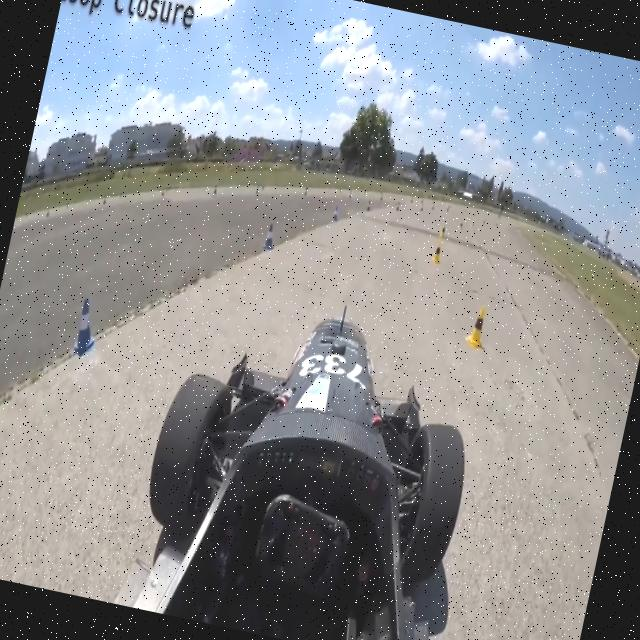blue_cone: (71, 296, 104, 358), (262, 222, 278, 252)
yellow_cone: (462, 304, 490, 352), (430, 242, 444, 264)
